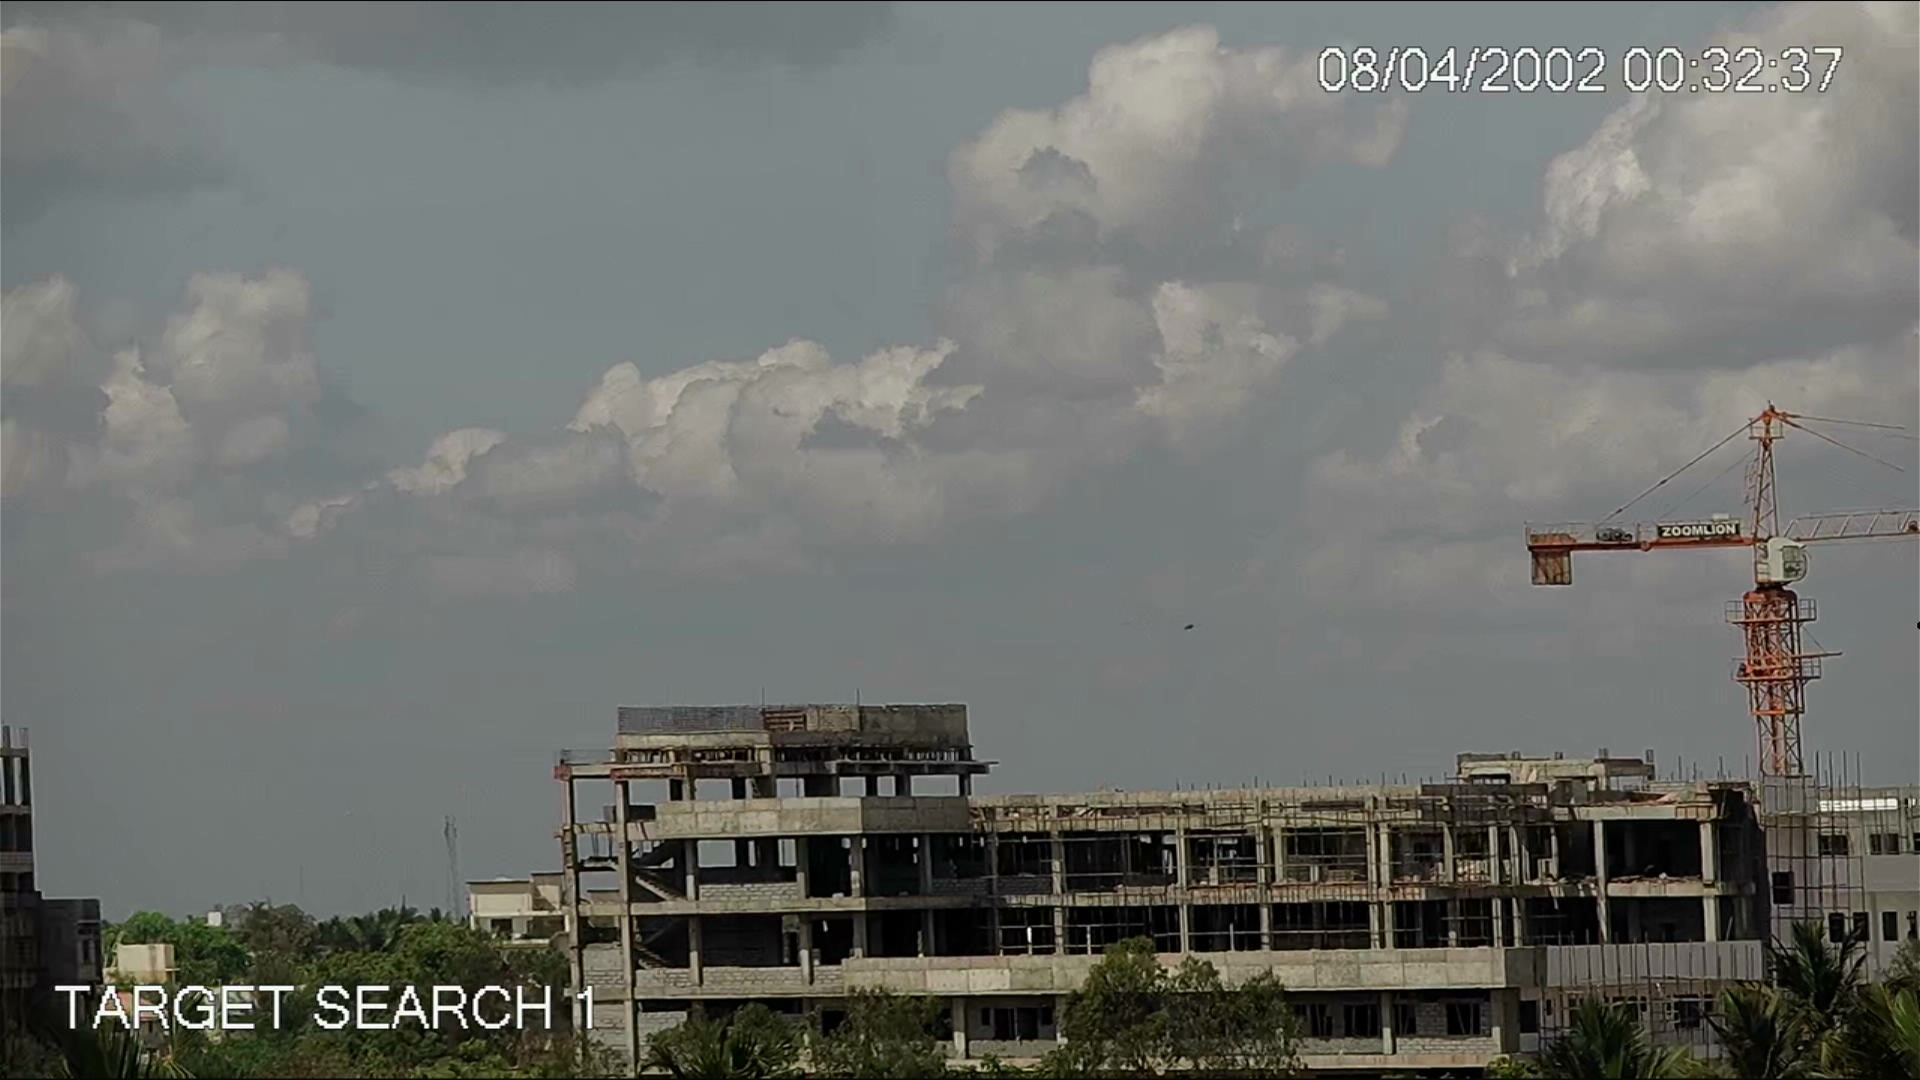SU_30: (1182, 618, 1209, 633)
